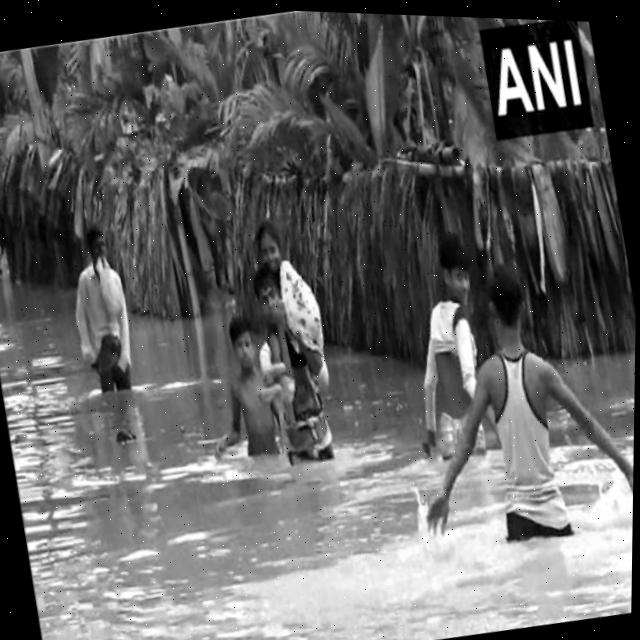civilian: (373, 226, 637, 563), (389, 212, 507, 493), (237, 260, 351, 487), (49, 210, 162, 412), (241, 220, 333, 398), (204, 309, 291, 483)
